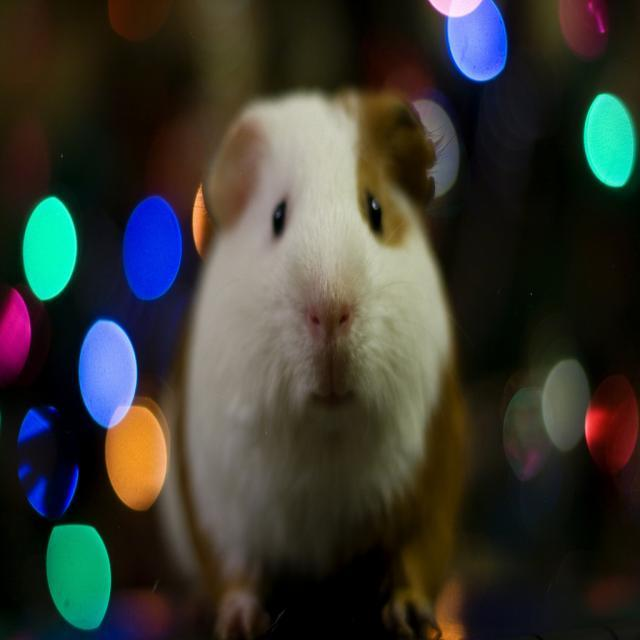rat: (164, 88, 458, 640)
